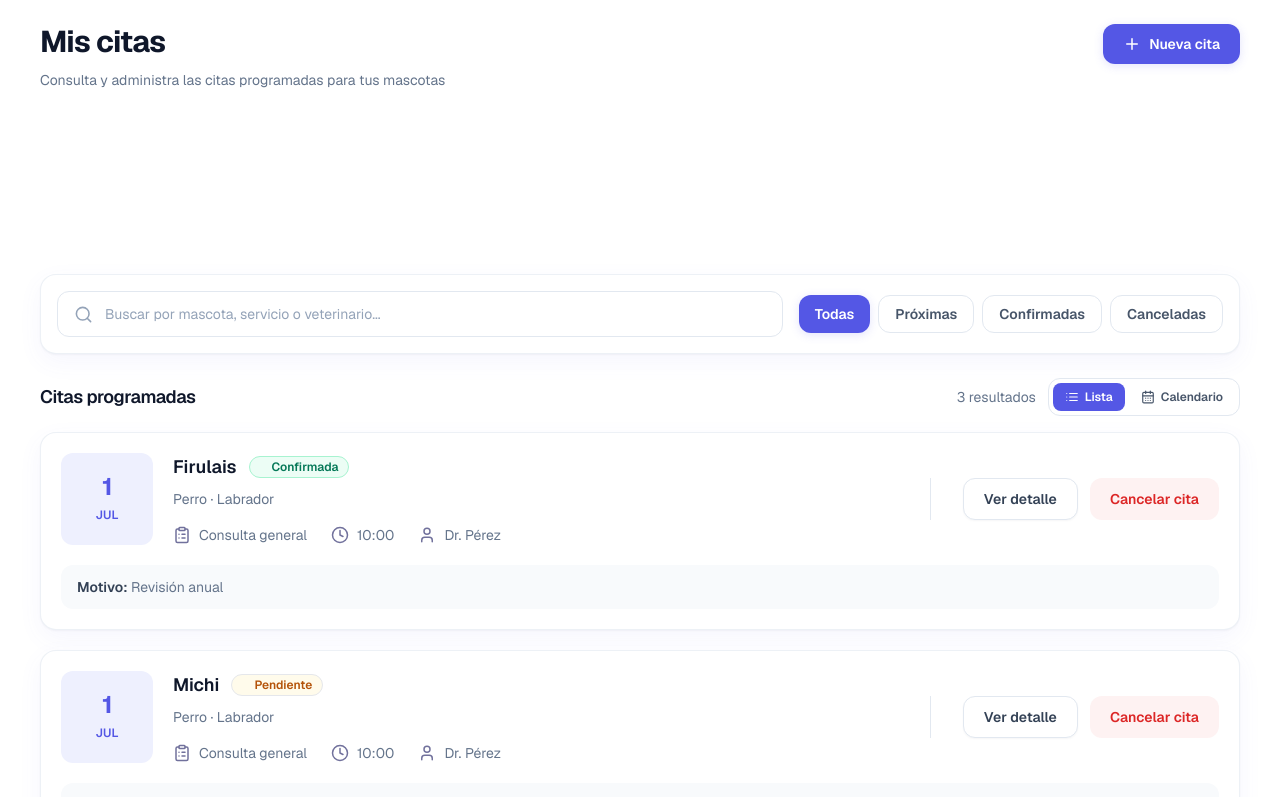
Test: AgendarPage — filtros y búsqueda › el filtro 'Canceladas' muestra solo citas canceladas
expect the heading "Firulais" is shown: met, box [173,453,236,481]
Click the button "Canceladas" at point(1166, 314), box [1110,295,1223,333]
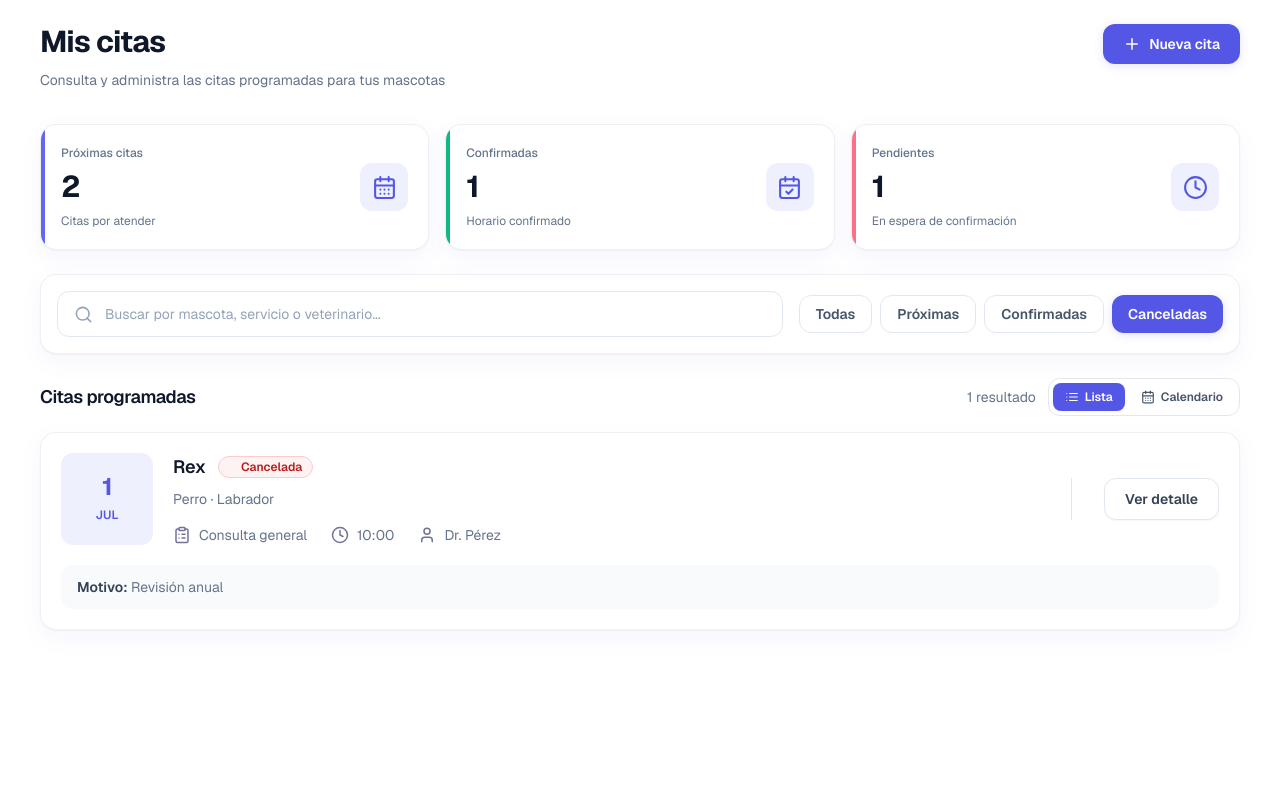
expect the heading "Rex" is shown: met, box [173,453,206,481]
expect the heading "Firulais" is gone: met
